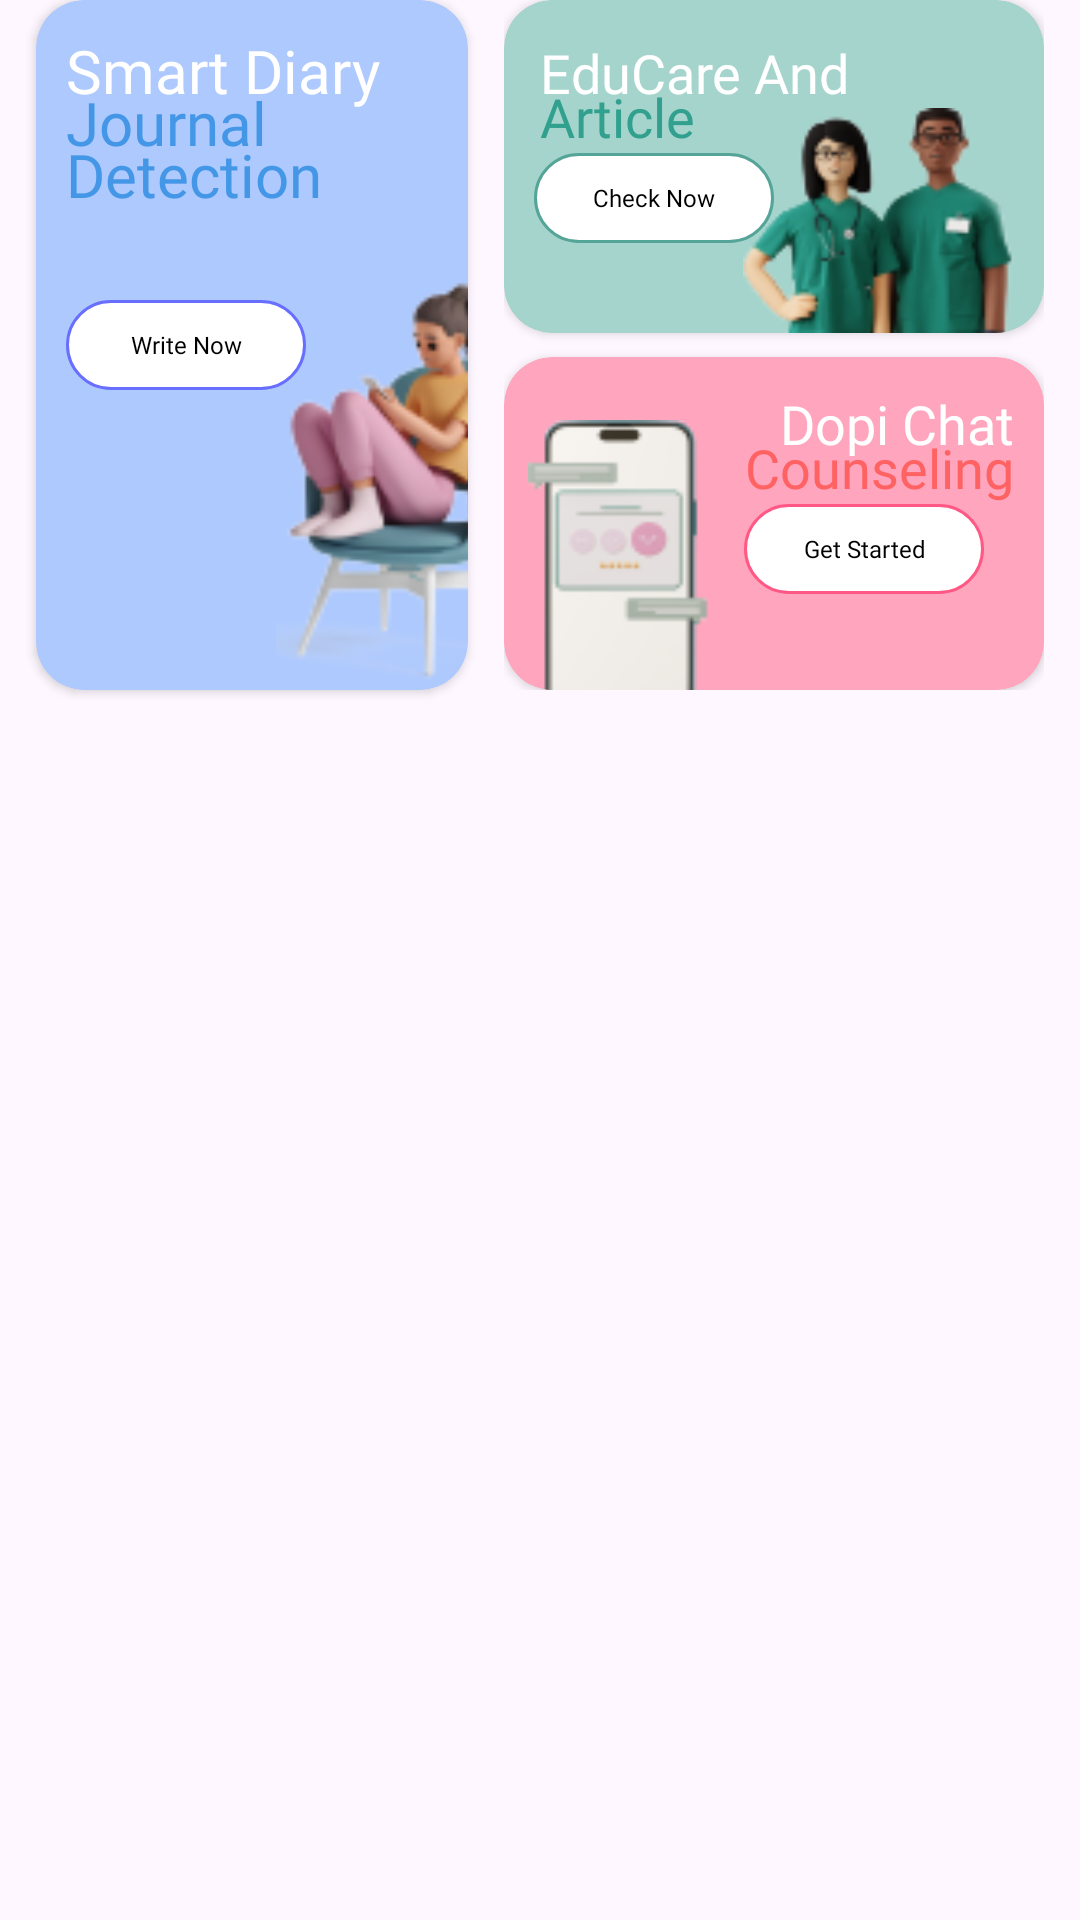

Icons on this 1080*1920 Android screen, each with the point to tap as (x=x, y=y):
foto dokterhome: (x=893, y=220)
